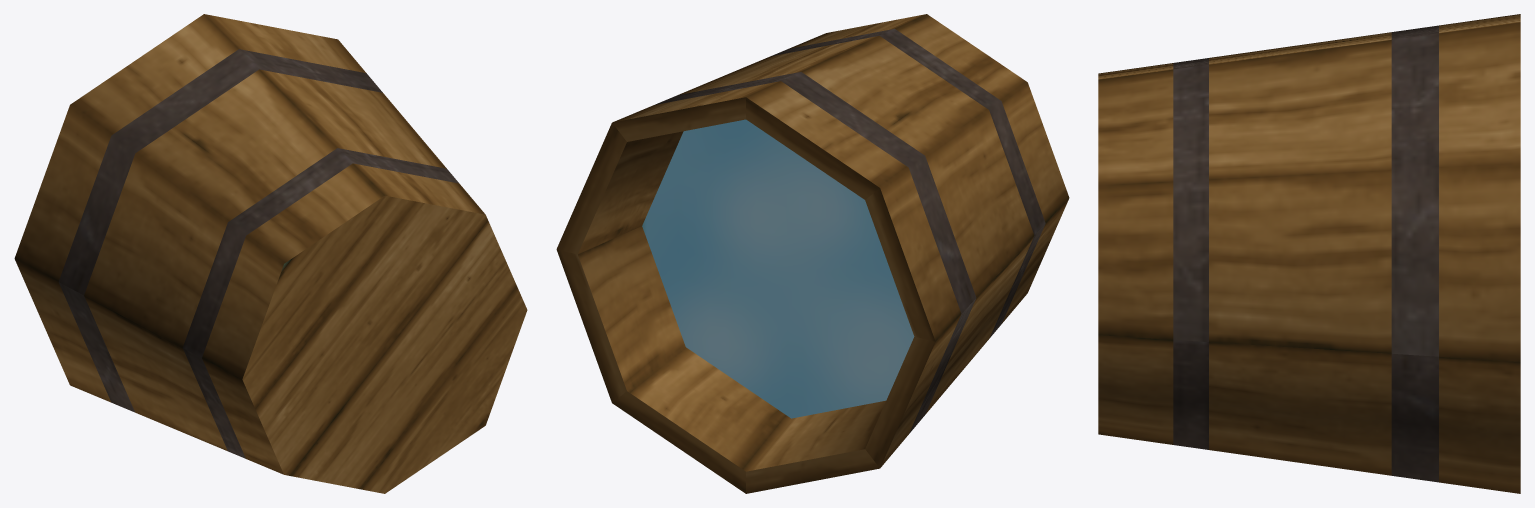
Rendered from Bucket.fbx.
3 renders of one model, left to right at view 1: azimuth 30°, elevation 25°; view 2: azimuth 150°, elevation 25°; view 3: azimuth 270°, elevation 25°, orthographic. The views are drawn at different scales.
Parts seen in each view (by area): view 1: Bucket; view 2: Bucket; view 3: Bucket.
Part boxes in pixels (x1,y1,x2,y2): Bucket: (14,14,527,493); Bucket: (556,14,1069,493); Bucket: (1098,14,1520,493).
Bounding box in the file's own units: 17.58 × 17.58 × 14.53.
